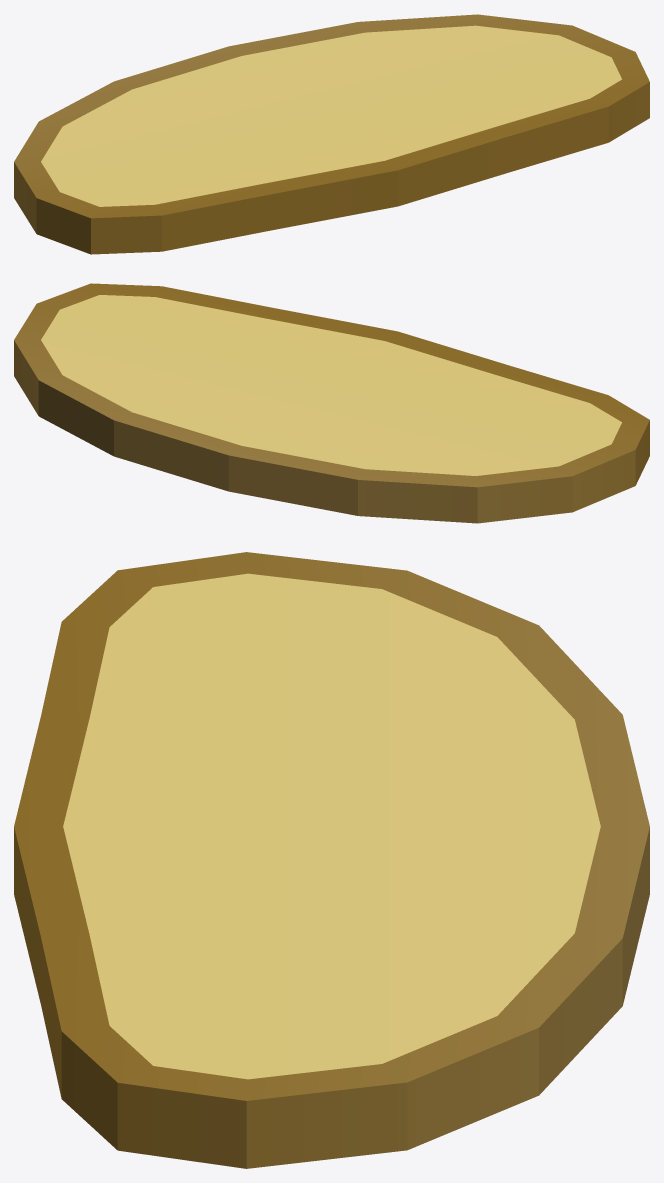
File: bread_2c.glb
The picture shows the model from 3 angles, top to bottom: view 1: azimuth 30°, elevation 25°; view 2: azimuth 150°, elevation 25°; view 3: azimuth 270°, elevation 25°; orthographic projection. The views are drawn at different scales.
Visible parts, largest first — view 1: bread_2c; view 2: bread_2c; view 3: bread_2c.
Boxes of the visible parts, x1,y1,x2,y2 form: bread_2c: (14, 14, 649, 254); bread_2c: (14, 283, 649, 523); bread_2c: (14, 552, 649, 1168).
Bounding box in the file's own units: 0.3254 × 0.0188 × 0.1593.
1 material, 1 textured.
